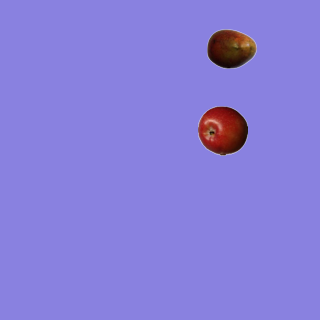Apple Braeburn: (197, 105, 247, 155)
Mango Red: (206, 23, 256, 73)
